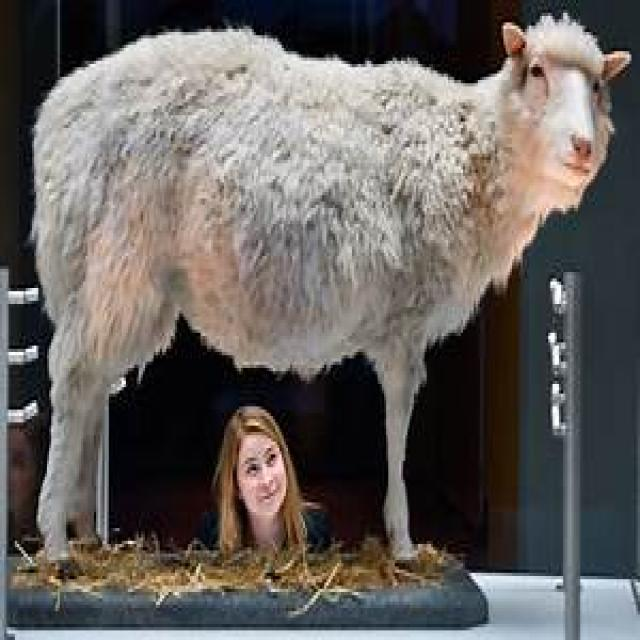animal: (28, 12, 631, 570)
